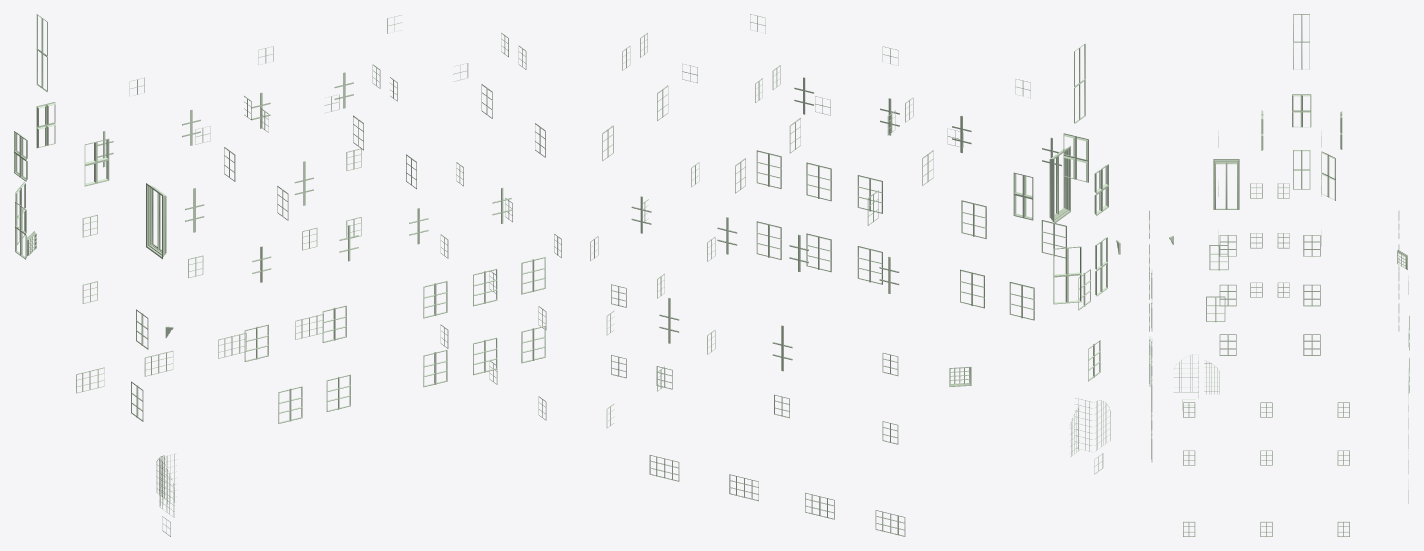
File: FairyTale105.gltf
The picture shows the model from 3 angles, left to right: view 1: azimuth 30°, elevation 25°; view 2: azimuth 150°, elevation 25°; view 3: azimuth 270°, elevation 25°; orthographic projection. The views are drawn at different scales.
Visible parts, largest first — view 1: HouseLG03_Mullions_Wood; view 2: HouseLG03_Mullions_Wood; view 3: HouseLG03_Mullions_Wood.
Part boxes in pixels (x1,y1,x2,y2): HouseLG03_Mullions_Wood: [14, 14, 561, 536]; HouseLG03_Mullions_Wood: [590, 14, 1120, 536]; HouseLG03_Mullions_Wood: [1149, 14, 1409, 536].
Size of the model in its own units: 21.42 by 20.6 by 12.91.
